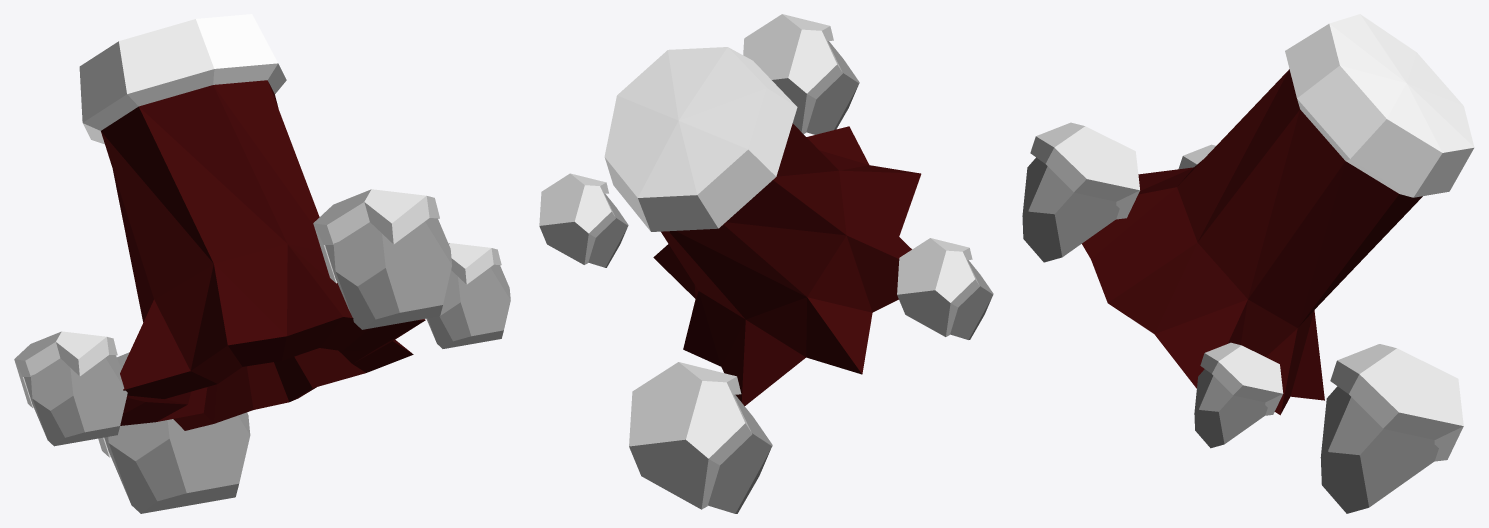
The model's file is SnowyStump.fbx.
3 views of the same model, side by side, from view 1: azimuth 30°, elevation 25°; view 2: azimuth 150°, elevation 25°; view 3: azimuth 270°, elevation 25° (orthographic). The views are drawn at different scales.
Visible parts, largest first — view 1: stone-snow.003; view 2: stone-snow.003; view 3: stone-snow.003.
Part boxes in pixels (x1,y1,x2,y2): stone-snow.003: [14, 14, 510, 513]; stone-snow.003: [539, 14, 993, 513]; stone-snow.003: [1022, 14, 1474, 513].
Size of the model in its own units: 76.98 by 75.86 by 65.68.
